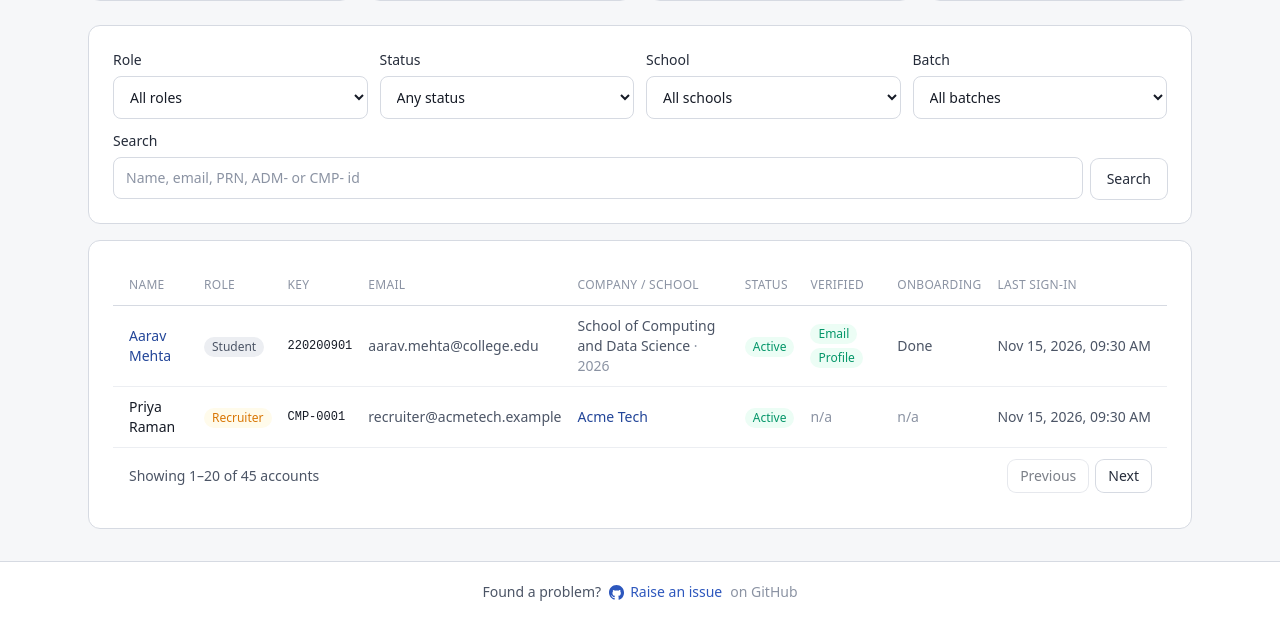
Test: all users page › goes back to page one after changing a filter
The width and height of the screenshot is (1280, 622).
(page scrolled)
Expected: the text "Showing 1–20 of 45 accounts" is shown, top-left (129, 466), bottom-right (319, 486)
Click the button "Next" at (1124, 476), box top-left (1096, 460), bottom-right (1151, 492)
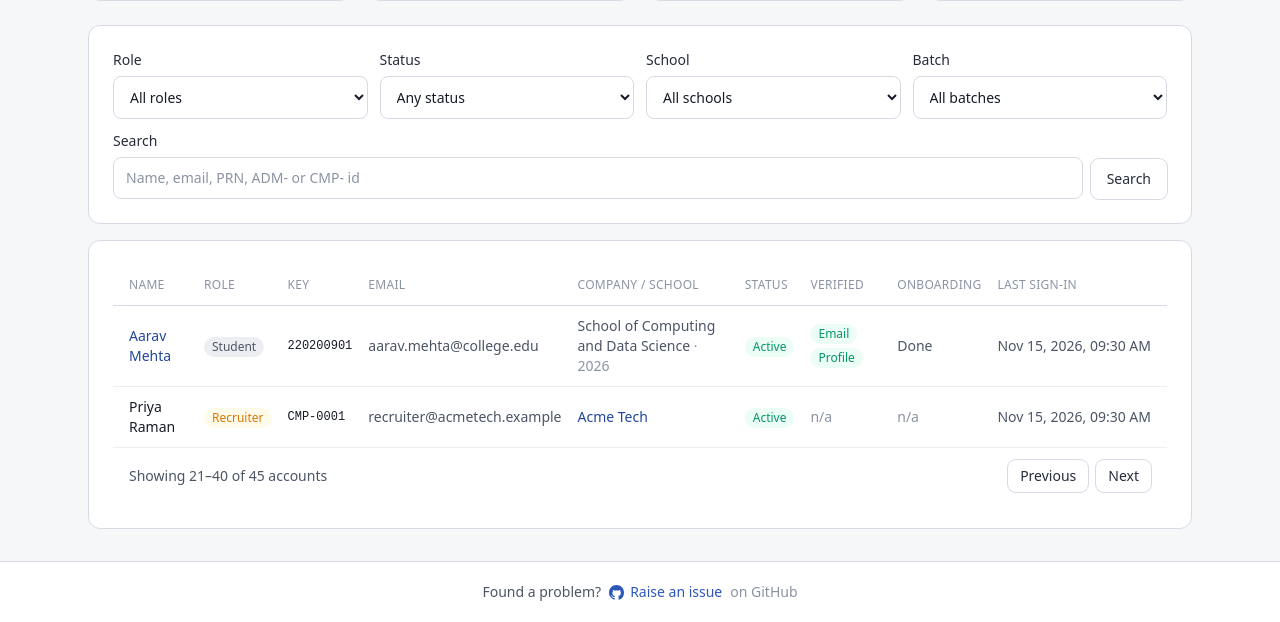
Now the text "Showing 21–40 of 45 accounts" is shown, box top-left (129, 466), bottom-right (327, 486)
Select "Student" in the dropdown labelled "Role" at (240, 98), box top-left (113, 76), bottom-right (368, 119)
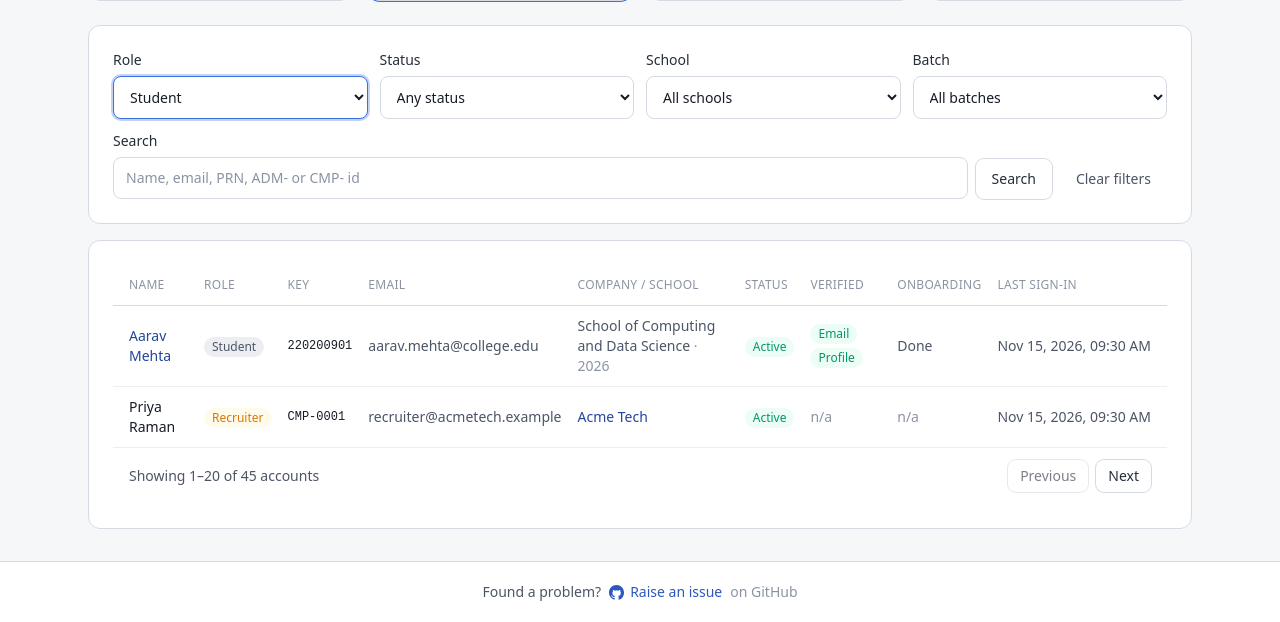
Now the text "Showing 1–20 of 45 accounts" is shown, box top-left (129, 466), bottom-right (319, 486)
